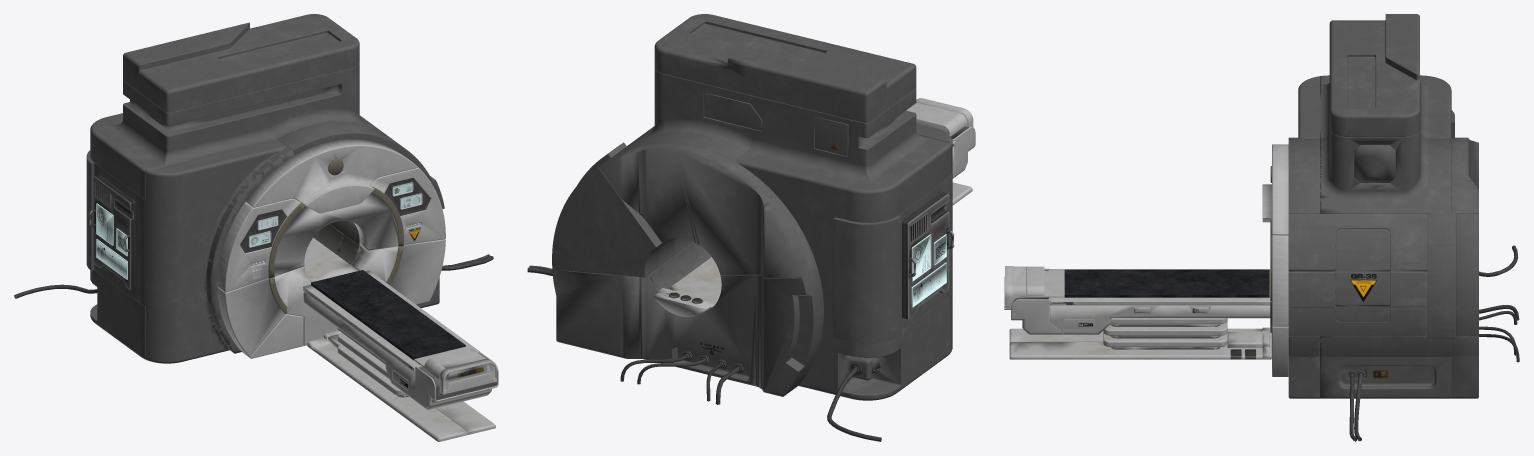
The model's file is mri.glb.
3 renders of one model, left to right at view 1: azimuth 30°, elevation 25°; view 2: azimuth 150°, elevation 25°; view 3: azimuth 270°, elevation 25°, orthographic. The views are drawn at different scales.
Parts seen in each view (by area): view 1: MRI_Solid 144.002, MRI_Solid 150.002, MRI_Solid 139.002, MRI_Solid 83.002, MRI_Solid 94.002, Bed_mat_low.002, MRI_Solid 76.002, MRI_Face sheet.001, MRI_Solid 82.002, MRI_Solid 277.002, MRI_Solid 83.003, MRI_Solid 145.002 (+12 smaller); view 2: MRI_Solid 150.002, MRI_Solid 209.002, MRI_Solid 211.002, MRI_Solid 139.002, MRI_Solid 277.002, MRI_Solid 259.002, MRI_Lofted.002, MRI_Solid 250.002, MRI_cable.001, MRI_Solid 83.003, Bed_Extruded.002, MRI_Solid 255.002 (+4 smaller); view 3: MRI_Solid 150.002, MRI_Solid 139.002, MRI_Solid 264.002, Bed_mat_low.002, MRI_Face sheet.001, MRI_Solid 263.002, MRI_Solid 72.002, MRI_Solid 109.002, MRI_Solid 34.002, MRI_Solid 258.002, MRI_Solid 144.002, MRI_Solid 259.002 (+11 smaller).
Boxes of the visible parts, x1,y1,x2,y2 form: MRI_Solid 144.002: (146, 139, 439, 363); MRI_Solid 150.002: (90, 63, 384, 359); MRI_Solid 139.002: (123, 14, 359, 112); MRI_Solid 83.002: (217, 167, 445, 292); MRI_Solid 94.002: (245, 139, 417, 213); Bed_mat_low.002: (311, 270, 465, 360); MRI_Solid 76.002: (217, 266, 310, 356); MRI_Face sheet.001: (307, 330, 495, 441); MRI_Solid 82.002: (351, 239, 445, 304); MRI_Solid 277.002: (86, 150, 145, 306); MRI_Solid 83.003: (96, 183, 421, 279); MRI_Solid 145.002: (277, 121, 401, 155); MRI_Solid 150.002: (616, 68, 951, 400); MRI_Solid 209.002: (552, 267, 823, 396); MRI_Solid 211.002: (598, 142, 817, 278); MRI_Solid 139.002: (654, 14, 916, 123); MRI_Solid 277.002: (833, 175, 951, 343); MRI_Solid 259.002: (552, 159, 664, 277); MRI_Lofted.002: (654, 257, 721, 317); MRI_Solid 250.002: (906, 193, 949, 319); MRI_cable.001: (527, 265, 881, 441); MRI_Solid 83.003: (911, 234, 946, 307); Bed_Extruded.002: (910, 98, 973, 136); MRI_Solid 255.002: (902, 192, 946, 318); MRI_Solid 150.002: (1320, 75, 1451, 398); MRI_Solid 139.002: (1329, 14, 1419, 136); MRI_Solid 264.002: (1288, 214, 1427, 271); Bed_mat_low.002: (1064, 269, 1269, 297); MRI_Face sheet.001: (1009, 327, 1271, 359); MRI_Solid 263.002: (1288, 270, 1427, 307); MRI_Solid 72.002: (1288, 306, 1427, 336); MRI_Solid 109.002: (1103, 318, 1227, 349); MRI_Solid 34.002: (1050, 305, 1270, 334); MRI_Solid 258.002: (1427, 212, 1455, 338); MRI_Solid 144.002: (1288, 76, 1319, 398); MRI_Solid 259.002: (1456, 214, 1478, 336).
Bounding box in the file's own units: 1.91 × 1.22 × 2.15.
Materials: 16 (16 with a texture image).
